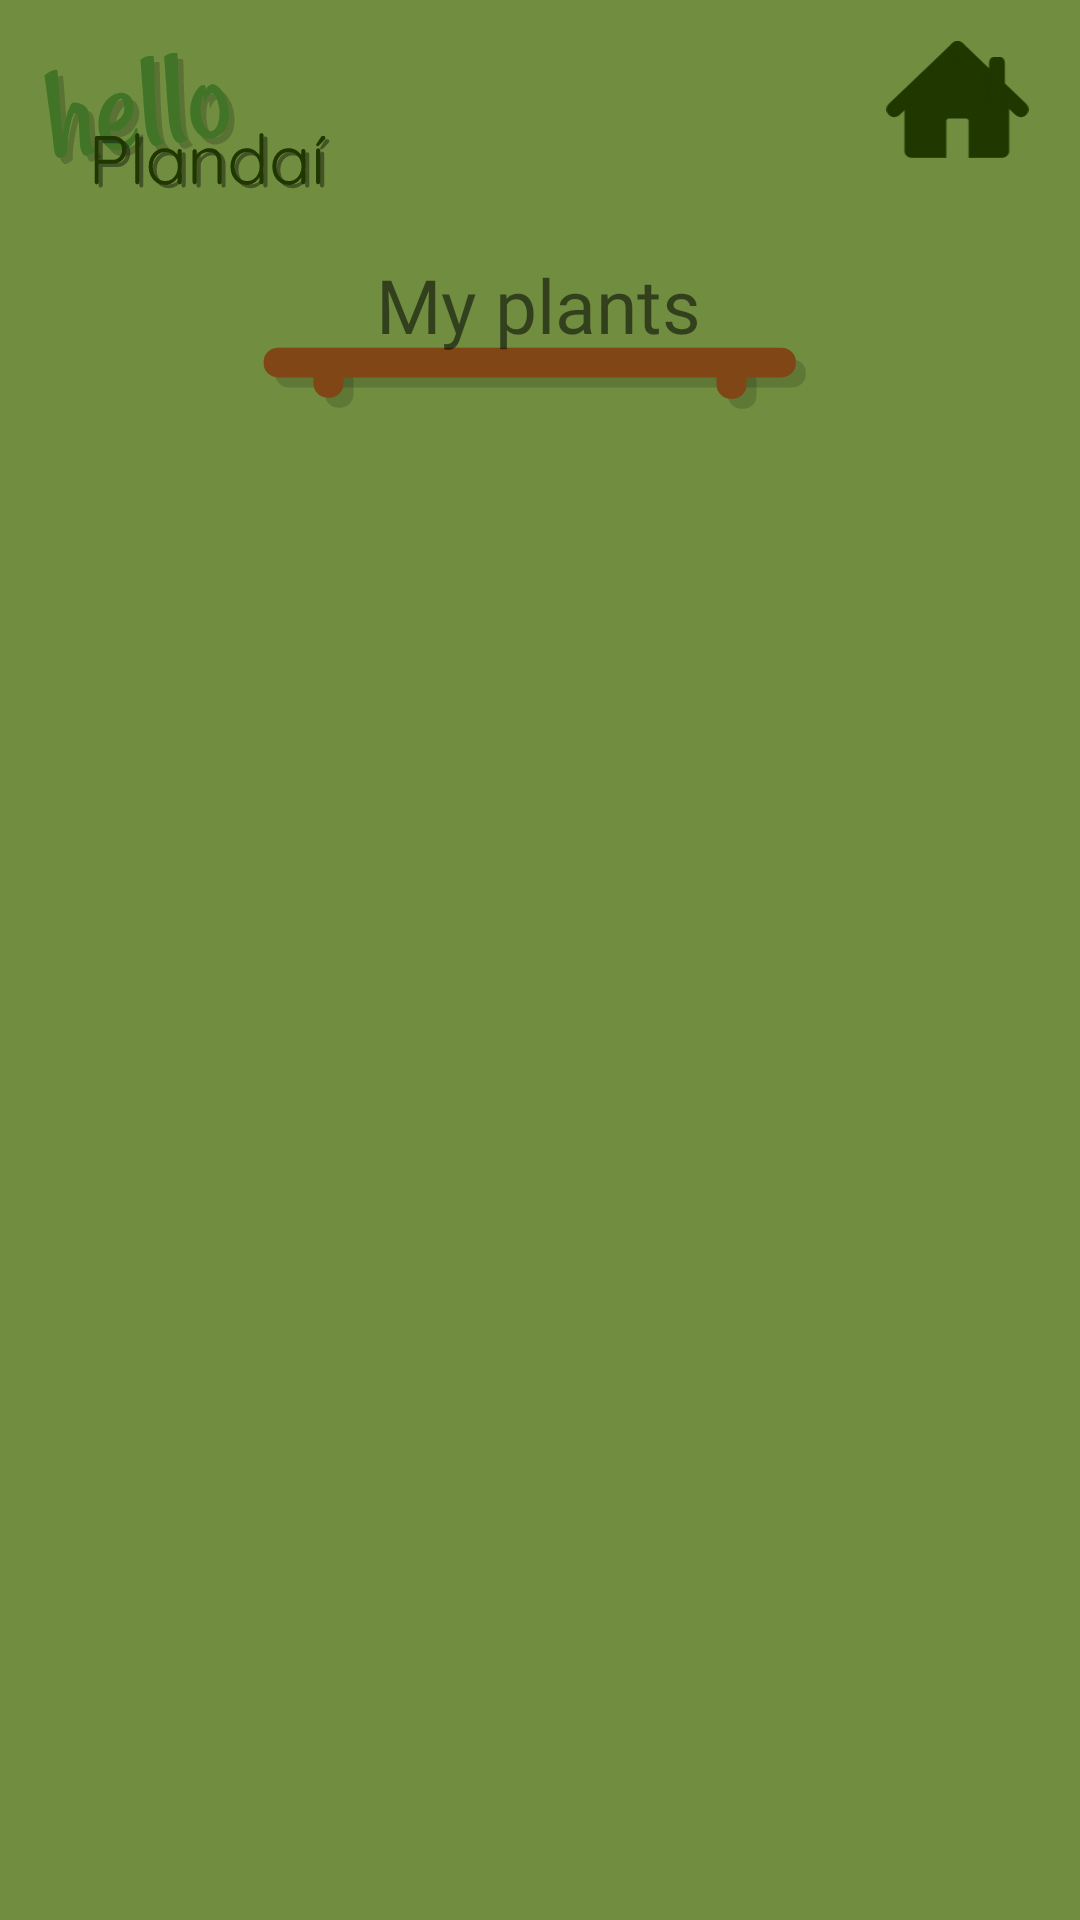

Icon bounding boxes for this 1080 × 1920 phone screenshot, format [left=x1, top=y1, right=x2, bottom=y2]:
homeicone: [left=886, top=41, right=1029, bottom=158]
